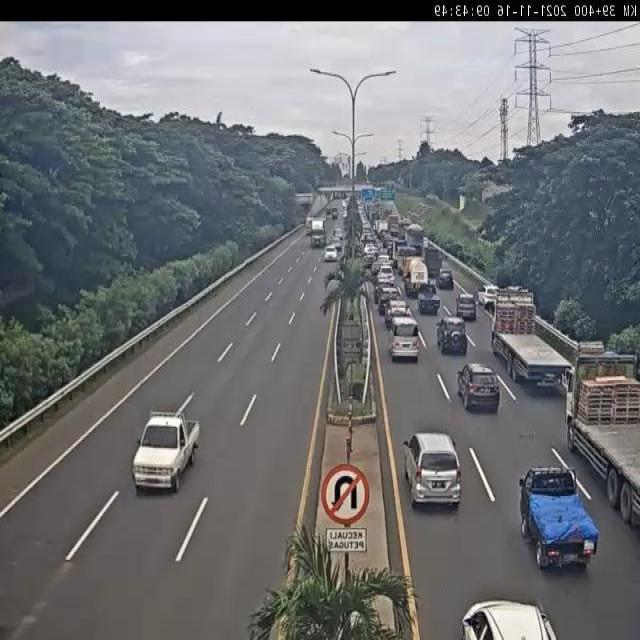Car: (404, 430, 463, 510), (456, 362, 500, 414), (436, 314, 468, 352), (384, 297, 409, 330), (378, 286, 400, 314), (456, 292, 476, 321), (436, 270, 453, 289)
Truck: (562, 346, 638, 531), (488, 289, 570, 392), (520, 467, 600, 572), (131, 408, 201, 492), (418, 284, 441, 314), (310, 218, 325, 247)
Van: (389, 315, 421, 361)
